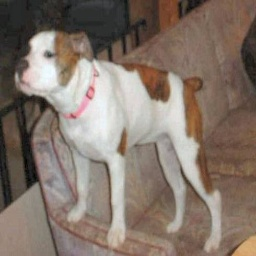dog: (12, 28, 225, 251)
